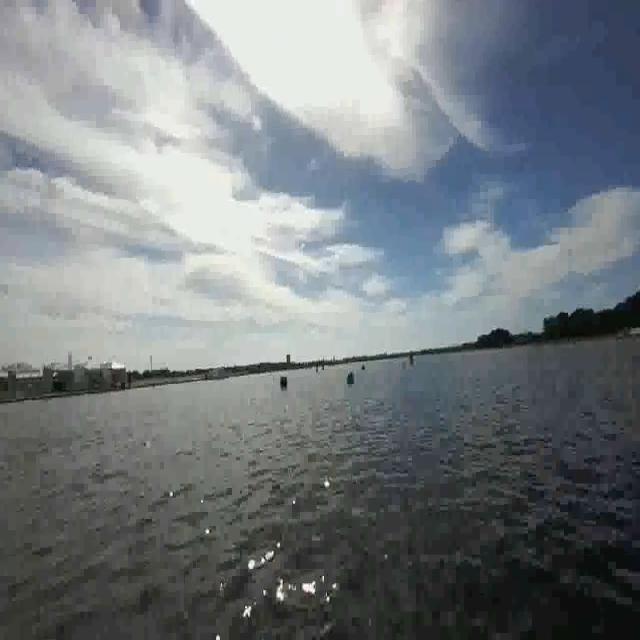black-buoy: (279, 372, 288, 387), (347, 371, 354, 384)
